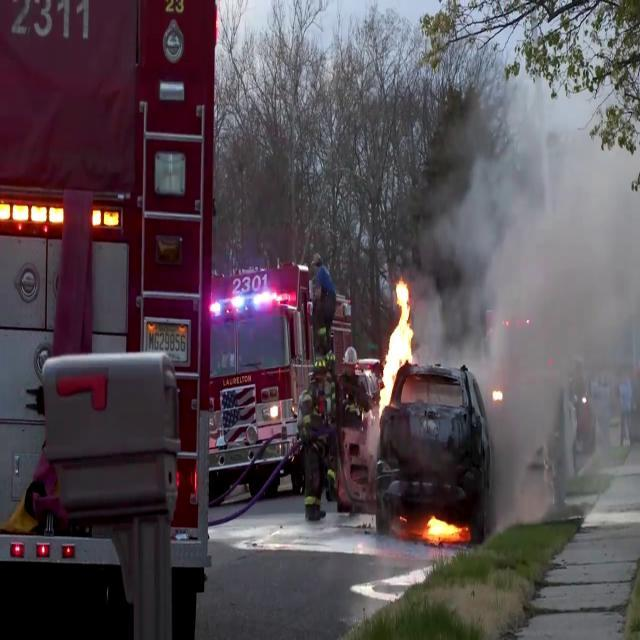Fire: (436, 48, 640, 524), (376, 276, 414, 418), (422, 509, 463, 547)
Smoke: (435, 47, 640, 529)
